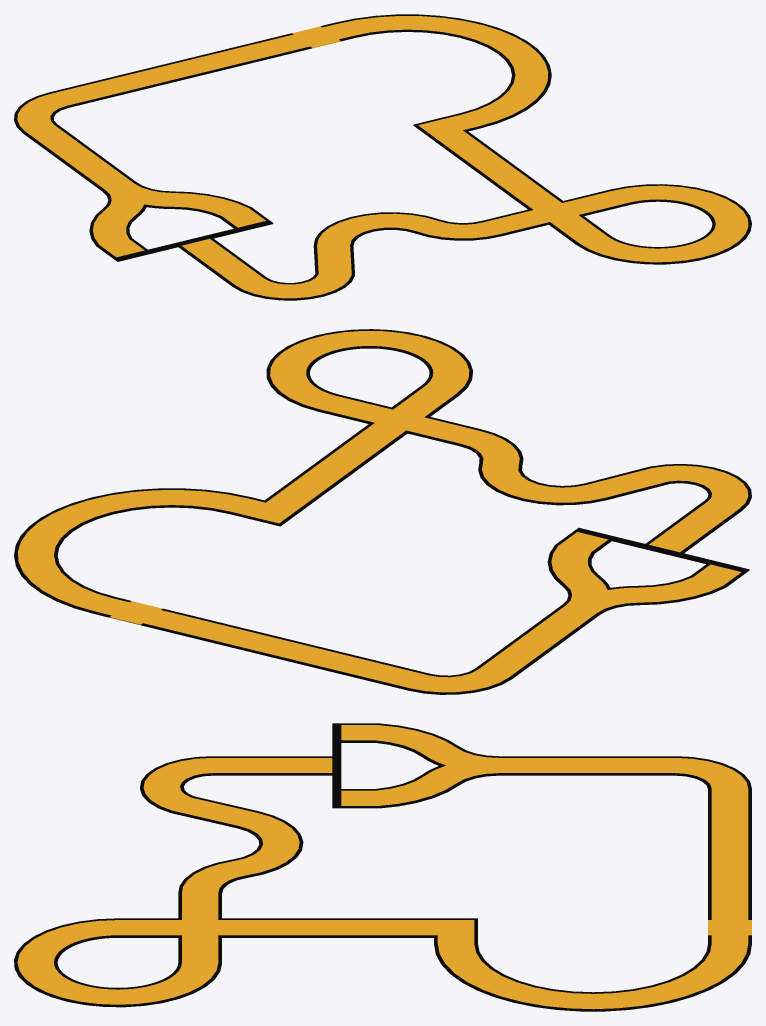
The model's file is Track_2.dae.
3 views of the same model, one above another, from view 1: azimuth 30°, elevation 25°; view 2: azimuth 150°, elevation 25°; view 3: azimuth 270°, elevation 25° (orthographic). The views are drawn at different scales.
Visible parts, largest first — view 1: Track; view 2: Track; view 3: Track.
Boxes of the visible parts, box(x1,y1,x2,y2) form: Track: box(14, 14, 751, 300); Track: box(14, 329, 751, 694); Track: box(14, 723, 751, 1011).
Size of the model in its own units: 37.18 by 40.39 by 0.06.
